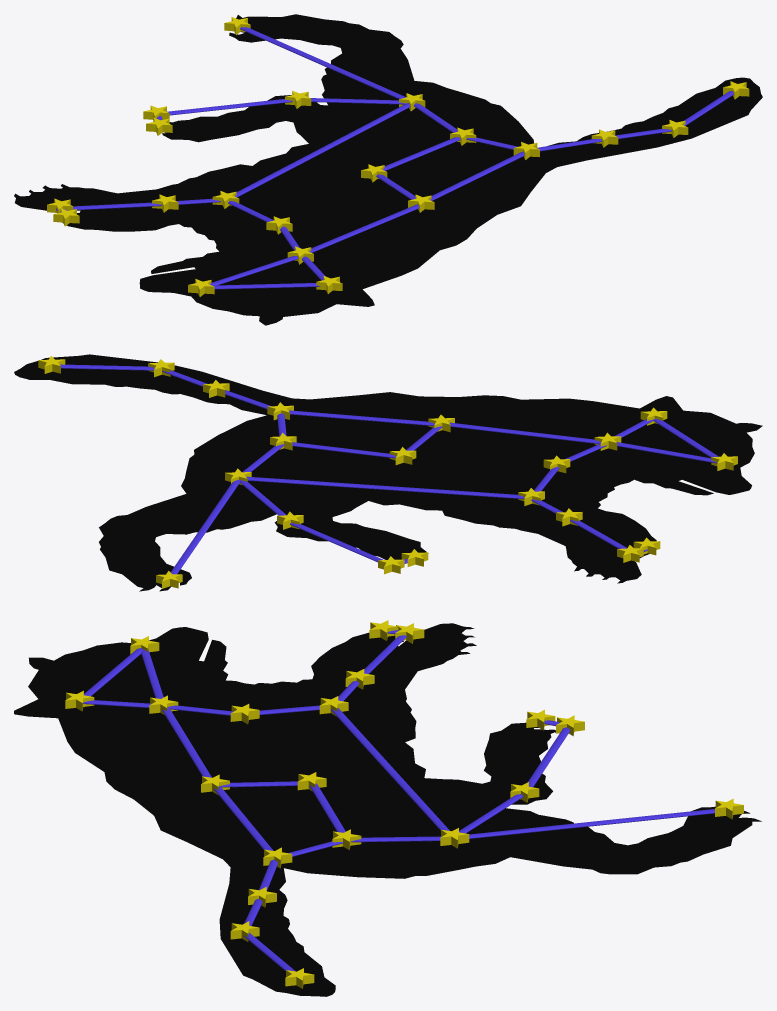
File: Ooguma-za.glb
The picture shows the model from 3 angles, top to bottom: view 1: azimuth 30°, elevation 25°; view 2: azimuth 150°, elevation 25°; view 3: azimuth 270°, elevation 25°; orthographic projection. The views are drawn at different scales.
Parts seen in each view (by area): view 1: 円, 円柱.005, 円柱.003, 円柱.014, 円柱.001, 円柱.018; view 2: 円, 円柱.005, 円柱.003, 円柱.014, 円柱.018, 円柱.001, 円柱.016, 円柱.011, 円柱.022; view 3: 円, 円柱.003, 円柱.005, 円柱.014.
Boxes of the visible parts, x1,y1,x2,y2 form: 円: (14, 14, 762, 325); 円柱.005: (235, 103, 409, 197); 円柱.003: (240, 27, 406, 98); 円柱.014: (310, 204, 418, 252); 円柱.001: (167, 99, 292, 115); 円柱.018: (430, 151, 524, 200); 円: (14, 354, 762, 591); 円柱.005: (246, 476, 524, 499); 円柱.003: (170, 479, 239, 574); 円柱.014: (449, 422, 601, 443); 円柱.018: (289, 410, 434, 425); 円柱.001: (290, 523, 383, 562); 円柱.016: (292, 442, 396, 458); 円柱.011: (616, 442, 717, 463); 円柱.022: (60, 364, 154, 370); 円: (14, 623, 761, 996); 円柱.003: (469, 809, 714, 838); 円柱.005: (330, 708, 449, 830); 円柱.014: (162, 707, 211, 777).
Size of the model in its own units: 83.71 by 0.8959 by 70.93.
